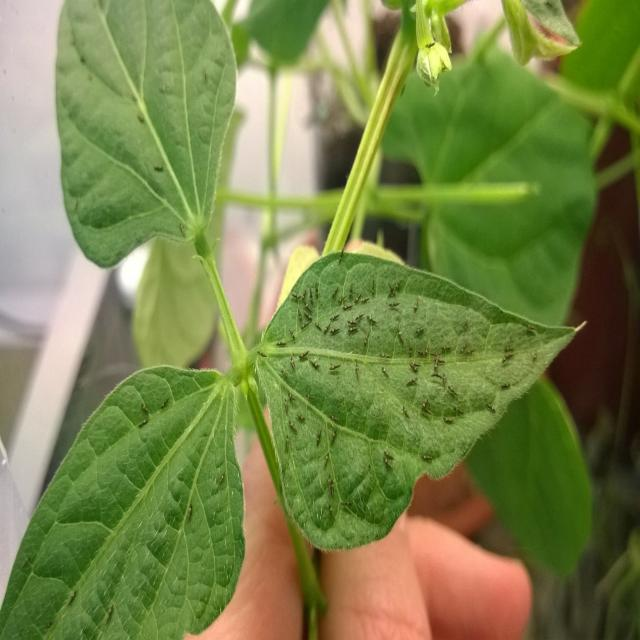Thrip-Adult-: (352, 356, 364, 382), (134, 415, 152, 430), (65, 587, 77, 609), (378, 360, 391, 380), (216, 469, 227, 490), (328, 408, 342, 424), (381, 454, 393, 472), (159, 392, 171, 410), (313, 426, 323, 447), (456, 339, 470, 354), (177, 220, 187, 241), (362, 328, 373, 347), (184, 500, 192, 526), (328, 504, 338, 524), (328, 359, 342, 373), (397, 326, 405, 349), (406, 336, 414, 359), (106, 602, 114, 625), (288, 418, 298, 436), (454, 403, 466, 418), (280, 366, 291, 382), (284, 432, 291, 457), (290, 288, 302, 302), (304, 300, 316, 314), (298, 348, 310, 362), (384, 447, 396, 461), (414, 325, 428, 337), (464, 346, 478, 358), (139, 400, 151, 414), (329, 429, 340, 444), (337, 246, 346, 264), (412, 296, 421, 314), (420, 395, 430, 411), (365, 313, 378, 325), (296, 409, 308, 422), (309, 356, 320, 370), (289, 356, 298, 373), (402, 404, 411, 421), (295, 304, 303, 323), (282, 396, 290, 415), (314, 276, 320, 301), (404, 377, 419, 387), (440, 343, 455, 353), (323, 447, 330, 468), (302, 309, 314, 321), (421, 452, 434, 463), (153, 160, 164, 173), (347, 279, 354, 299), (339, 498, 353, 508), (448, 383, 458, 397), (331, 284, 340, 299), (287, 390, 298, 402), (408, 361, 419, 373), (329, 326, 342, 336), (442, 415, 455, 425), (323, 321, 332, 335), (346, 326, 360, 335), (304, 393, 318, 402), (326, 471, 332, 492), (433, 354, 440, 372), (300, 320, 311, 331), (257, 349, 268, 360), (431, 370, 442, 381), (288, 327, 296, 342), (370, 277, 376, 297), (342, 302, 354, 312), (424, 40, 436, 50), (308, 287, 315, 304), (424, 340, 431, 357), (330, 476, 335, 498), (353, 292, 362, 304), (329, 313, 341, 322), (410, 358, 422, 367), (388, 299, 400, 308), (275, 340, 288, 348), (442, 372, 448, 388), (354, 313, 367, 320), (416, 348, 425, 358), (314, 321, 322, 332), (347, 318, 358, 326), (338, 295, 346, 305), (360, 297, 370, 304), (302, 289, 307, 302)
Thrip-Group-: (254, 247, 541, 521)
